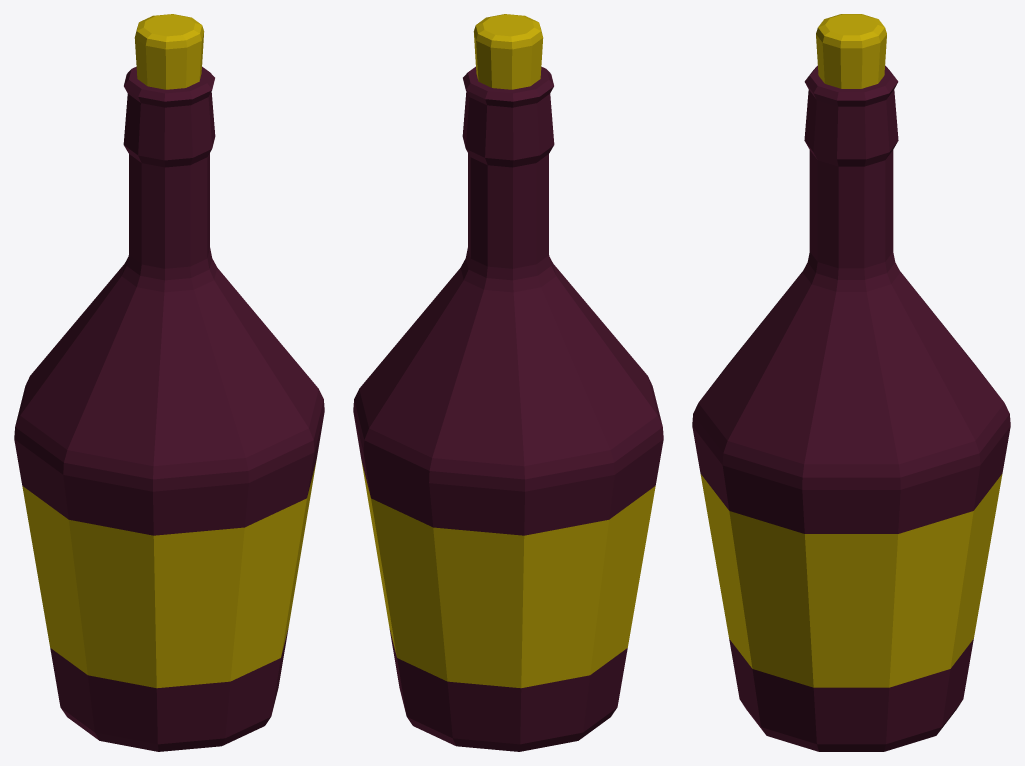
File: Sec3ARMissionPortalItemBottle.glb
3 views of the same model, side by side, from view 1: azimuth 30°, elevation 25°; view 2: azimuth 150°, elevation 25°; view 3: azimuth 270°, elevation 25° (orthographic).
Parts seen in each view (by area): view 1: Cylinder.003; view 2: Cylinder.003; view 3: Cylinder.003.
Boxes of the visible parts, left/top/right/bottom form: Cylinder.003: left=14, top=14, right=324, bottom=751; Cylinder.003: left=353, top=14, right=663, bottom=751; Cylinder.003: left=692, top=14, right=1010, bottom=751.
Bounding box in the file's own units: 0.0211 × 0.053 × 0.0222.
